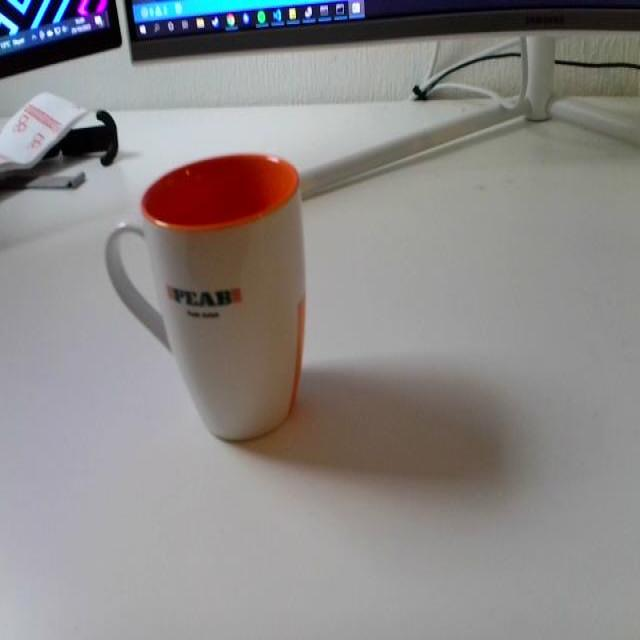cup: (89, 124, 332, 454)
